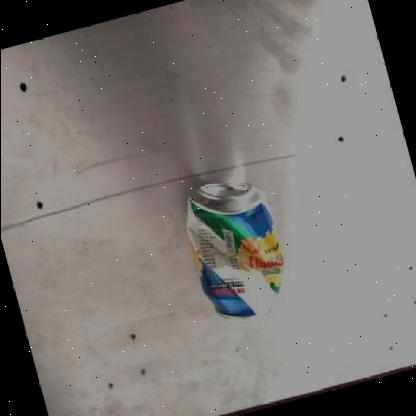Can: (184, 179, 282, 323)
